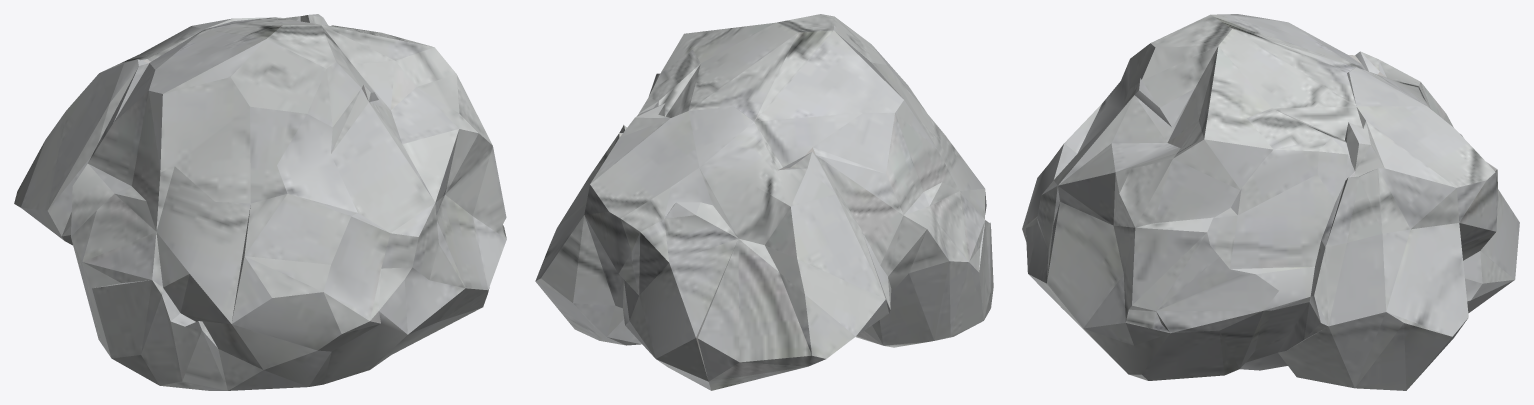
Rendered from rock_1.glb.
3 renders of one model, left to right at view 1: azimuth 30°, elevation 25°; view 2: azimuth 150°, elevation 25°; view 3: azimuth 270°, elevation 25°, orthographic. The views are drawn at different scales.
Size of the model in its own units: 1.64 by 1.22 by 1.9.
1 material, 1 textured.
